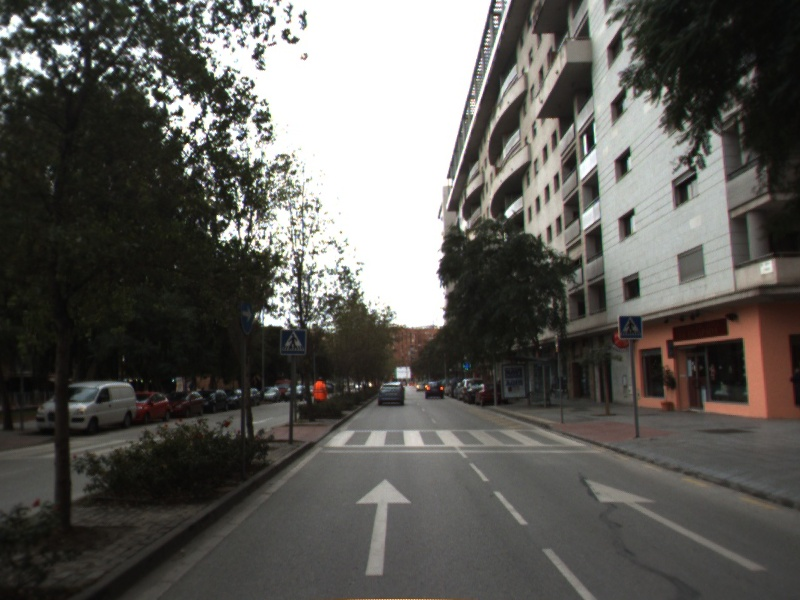STRAIGHT: (580, 475, 771, 573), (352, 476, 415, 578)
